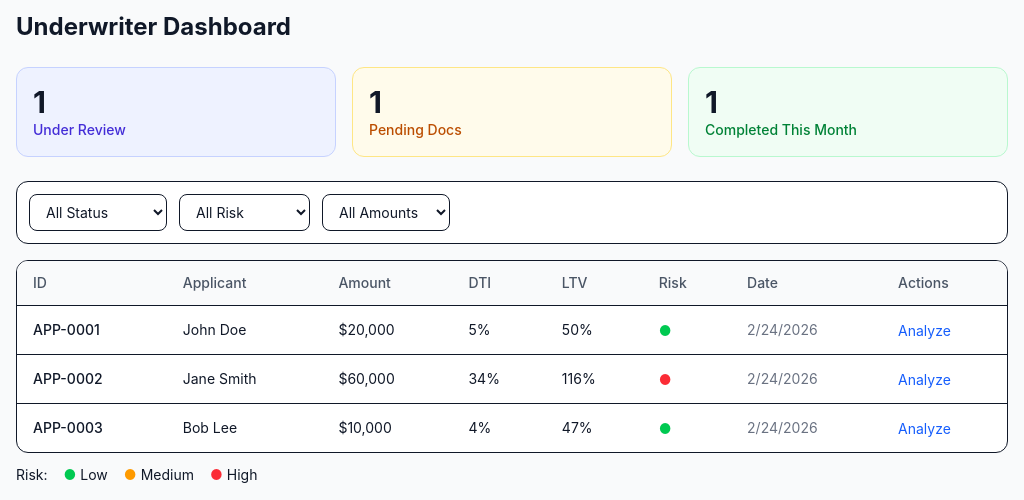
Test: UnderwriterDashboard › filters by amount under25k
Expected: the element with test id "filters" is shown, [16, 181, 1008, 244]
Select "Under $25k" in the dropdown named "Amount filter" at point(386, 212), box [322, 194, 450, 231]
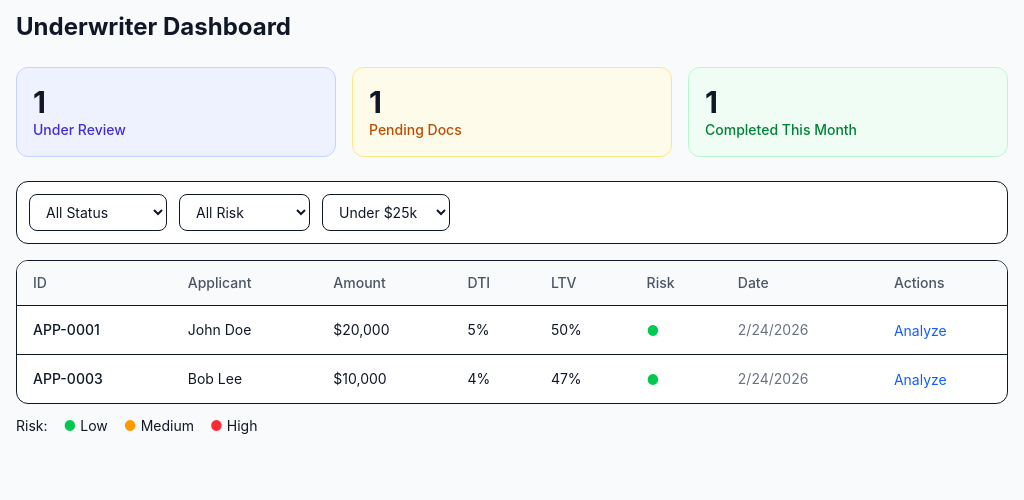
Result: the number of rows with test id "app-row" is 2 at [17, 306, 1007, 354]; [17, 354, 1007, 403]
